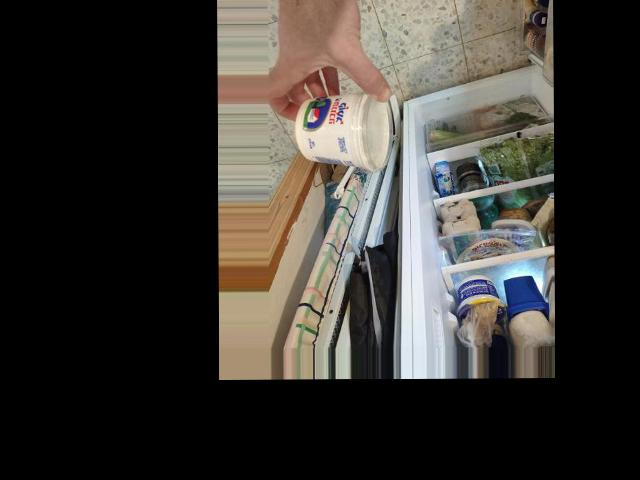cotage: (302, 86, 386, 164)
